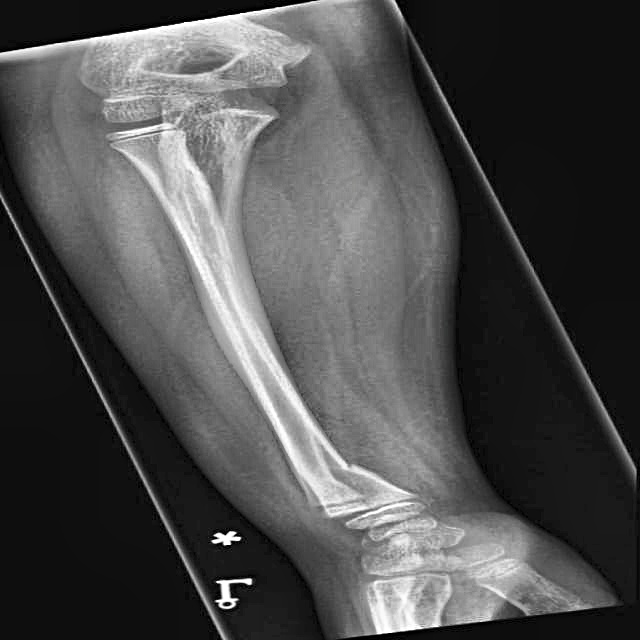Greenstick: (265, 438, 401, 499)
